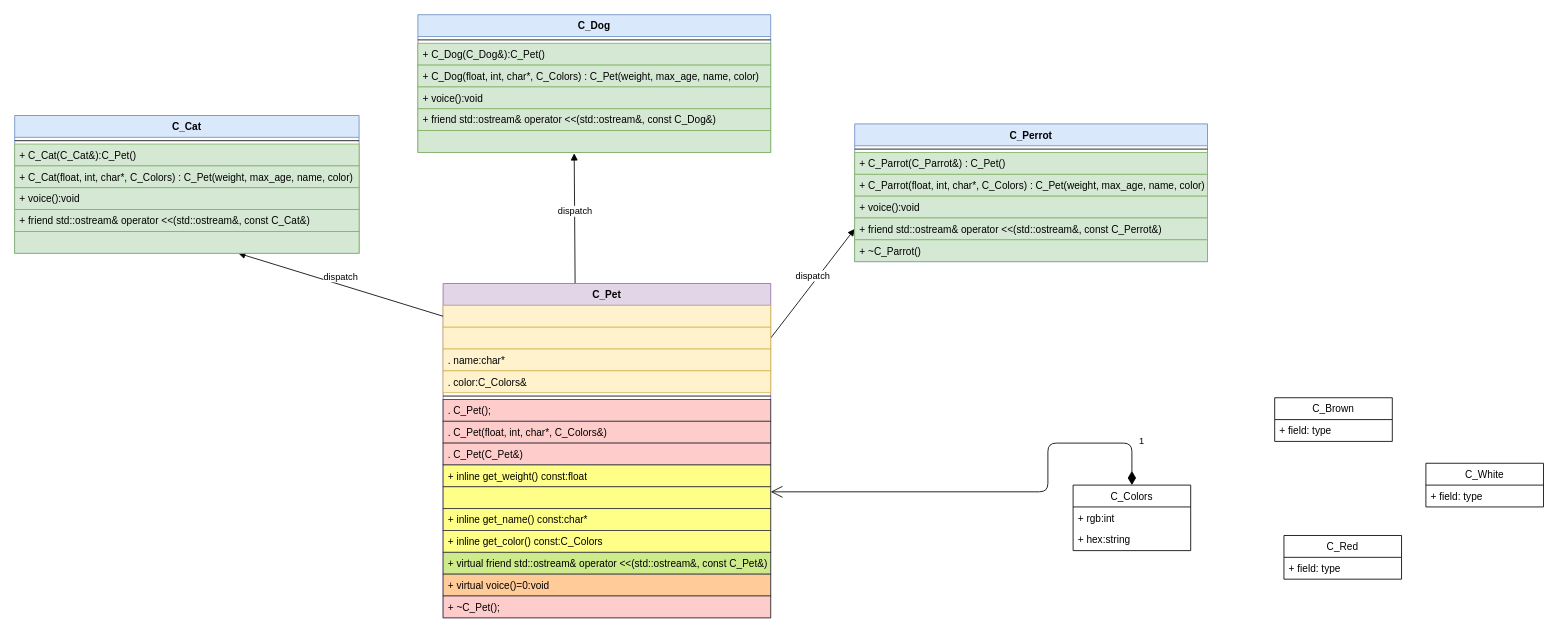
Some shapes in this 1558 by 635 pixel diagram are drawn without their labels. Here are the shapes that lost their labels. From the top down, the centre of each, then its label:
point 594,141: + ~C_Dog()
point 186,242: + ~C_Cat()
point 606,315: . weight:float
point 606,337: . max_age:int
point 606,497: + inline get_age() const:int
